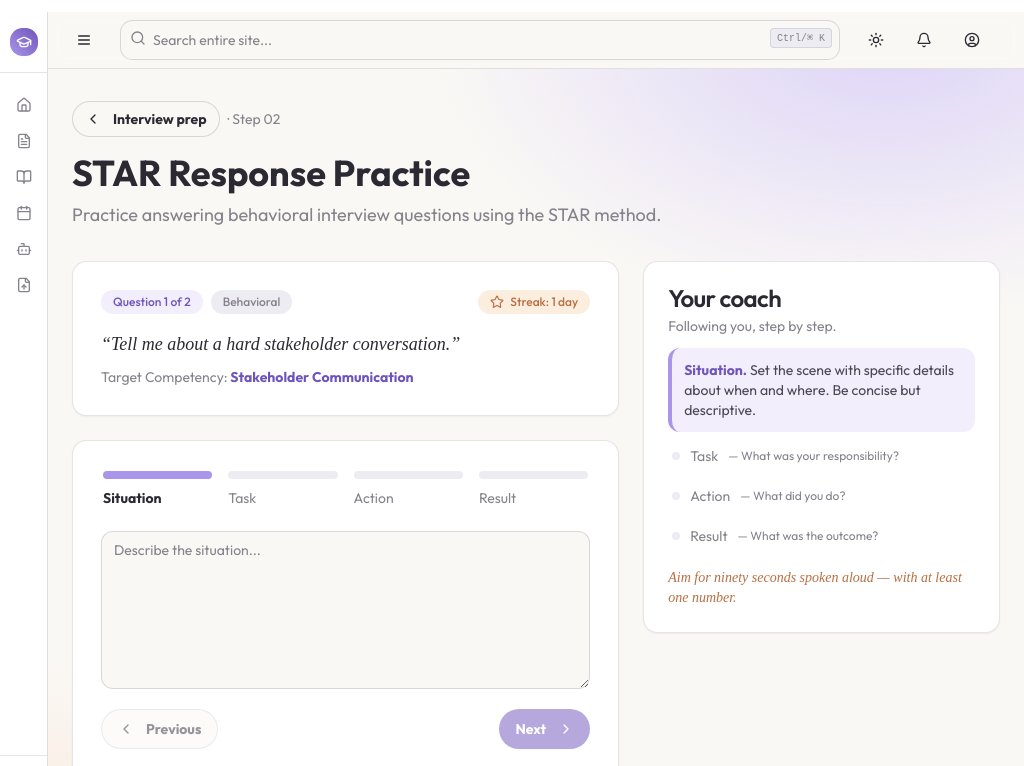
Test: StarPractice page (Guided Coach) › gates Next on the current step having content, and advances the coach
The width and height of the screenshot is (1024, 766).
Expected: the heading "Your coach" is shown, [668,283,781,313]
Expected: the button "Next" is disabled, [499,709,590,749]
Type "Our team faced a deadline." into the text box with placeholder "Describe the situation...". click: (346, 610)
box: [101,531,590,689]
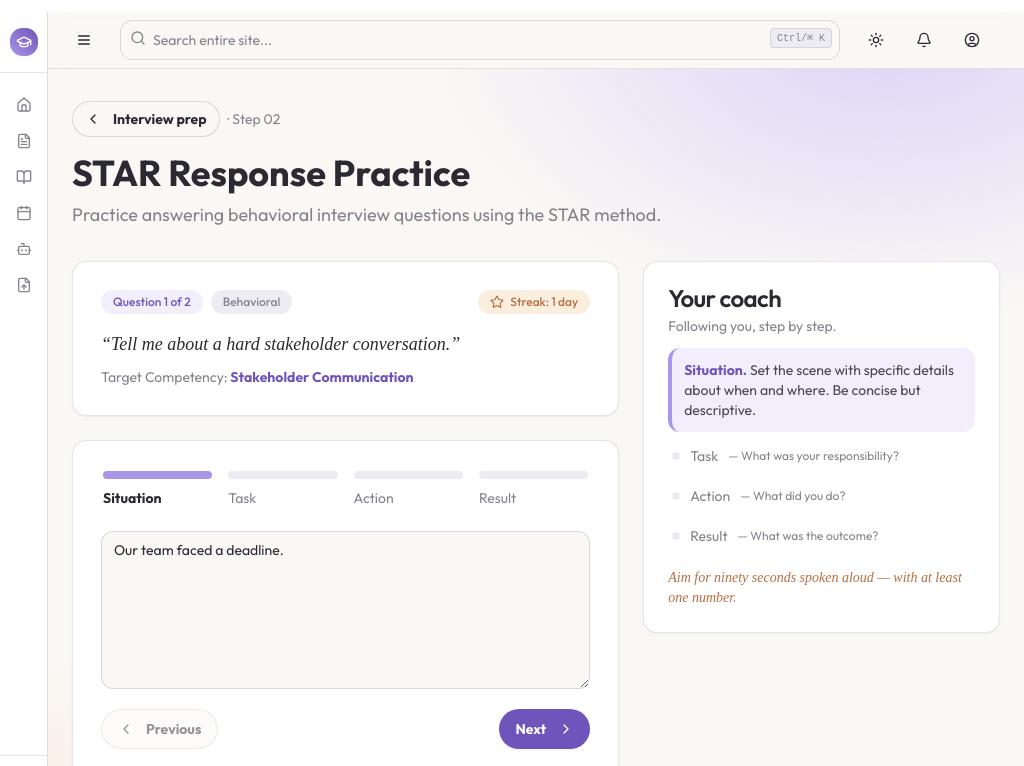
Now the button "Next" is enabled
Click the button "Next". click: click(545, 729)
box: [499,709,590,749]
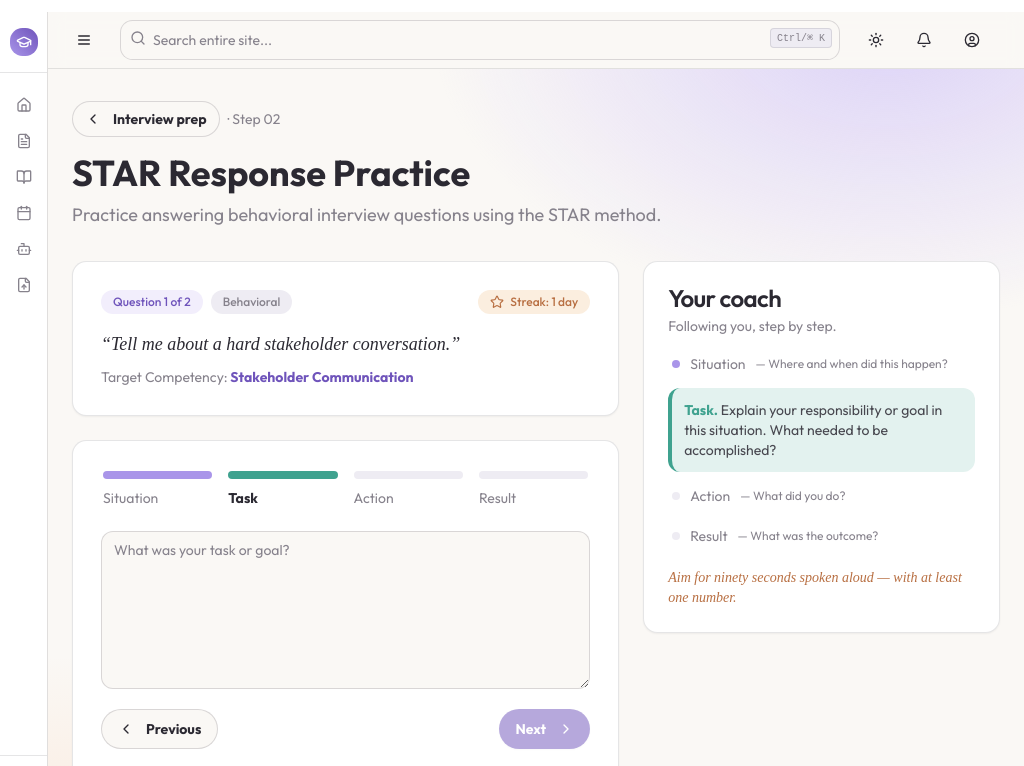
Now the text "Explain your responsibility or goal" is shown, box [684,401,942,459]
Now the text box with placeholder "What was your task or goal?" is shown, box [101,531,590,689]
